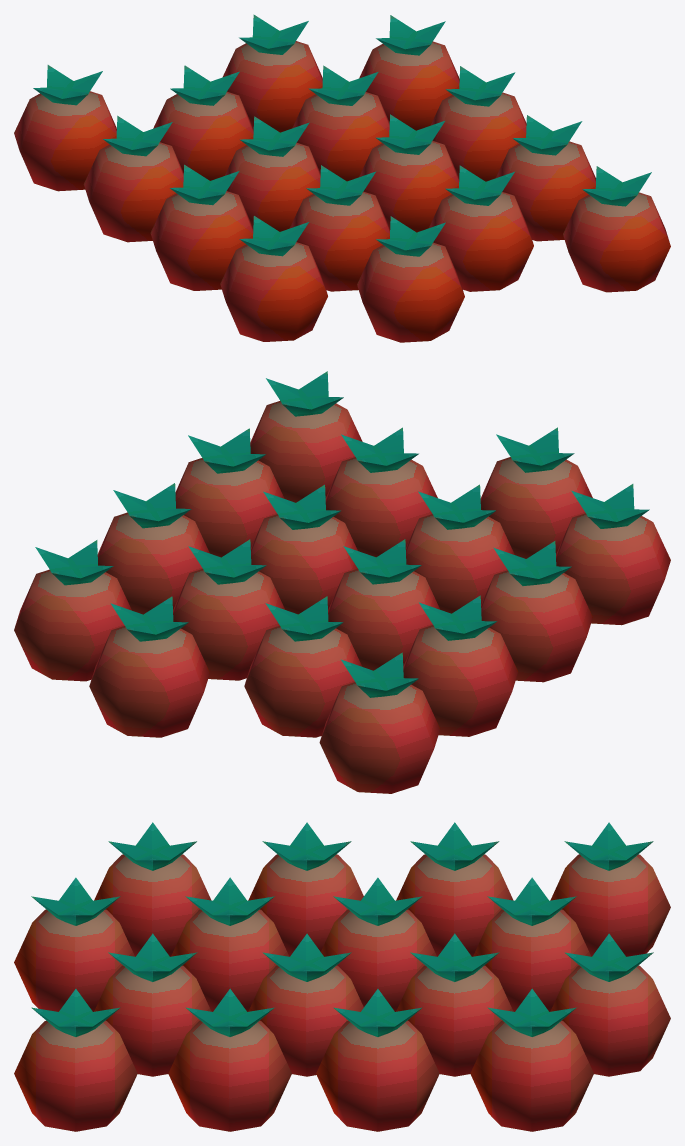
The model's file is simple_low_poly_tomato2.glb.
3 renders of one model, top to bottom at view 1: azimuth 30°, elevation 25°; view 2: azimuth 150°, elevation 25°; view 3: azimuth 270°, elevation 25°, orthographic. The views are drawn at different scales.
Parts seen in each view (by area): view 1: tomato2_Material #25_0; view 2: tomato2_Material #25_0; view 3: tomato2_Material #25_0.
Boxes of the visible parts, x1,y1,x2,y2 form: tomato2_Material #25_0: (14,14,670,342); tomato2_Material #25_0: (14,371,670,793); tomato2_Material #25_0: (14,822,670,1131).
Bounding box in the file's own units: 1.68 × 0.4044 × 2.13.
1 material, 1 textured.
